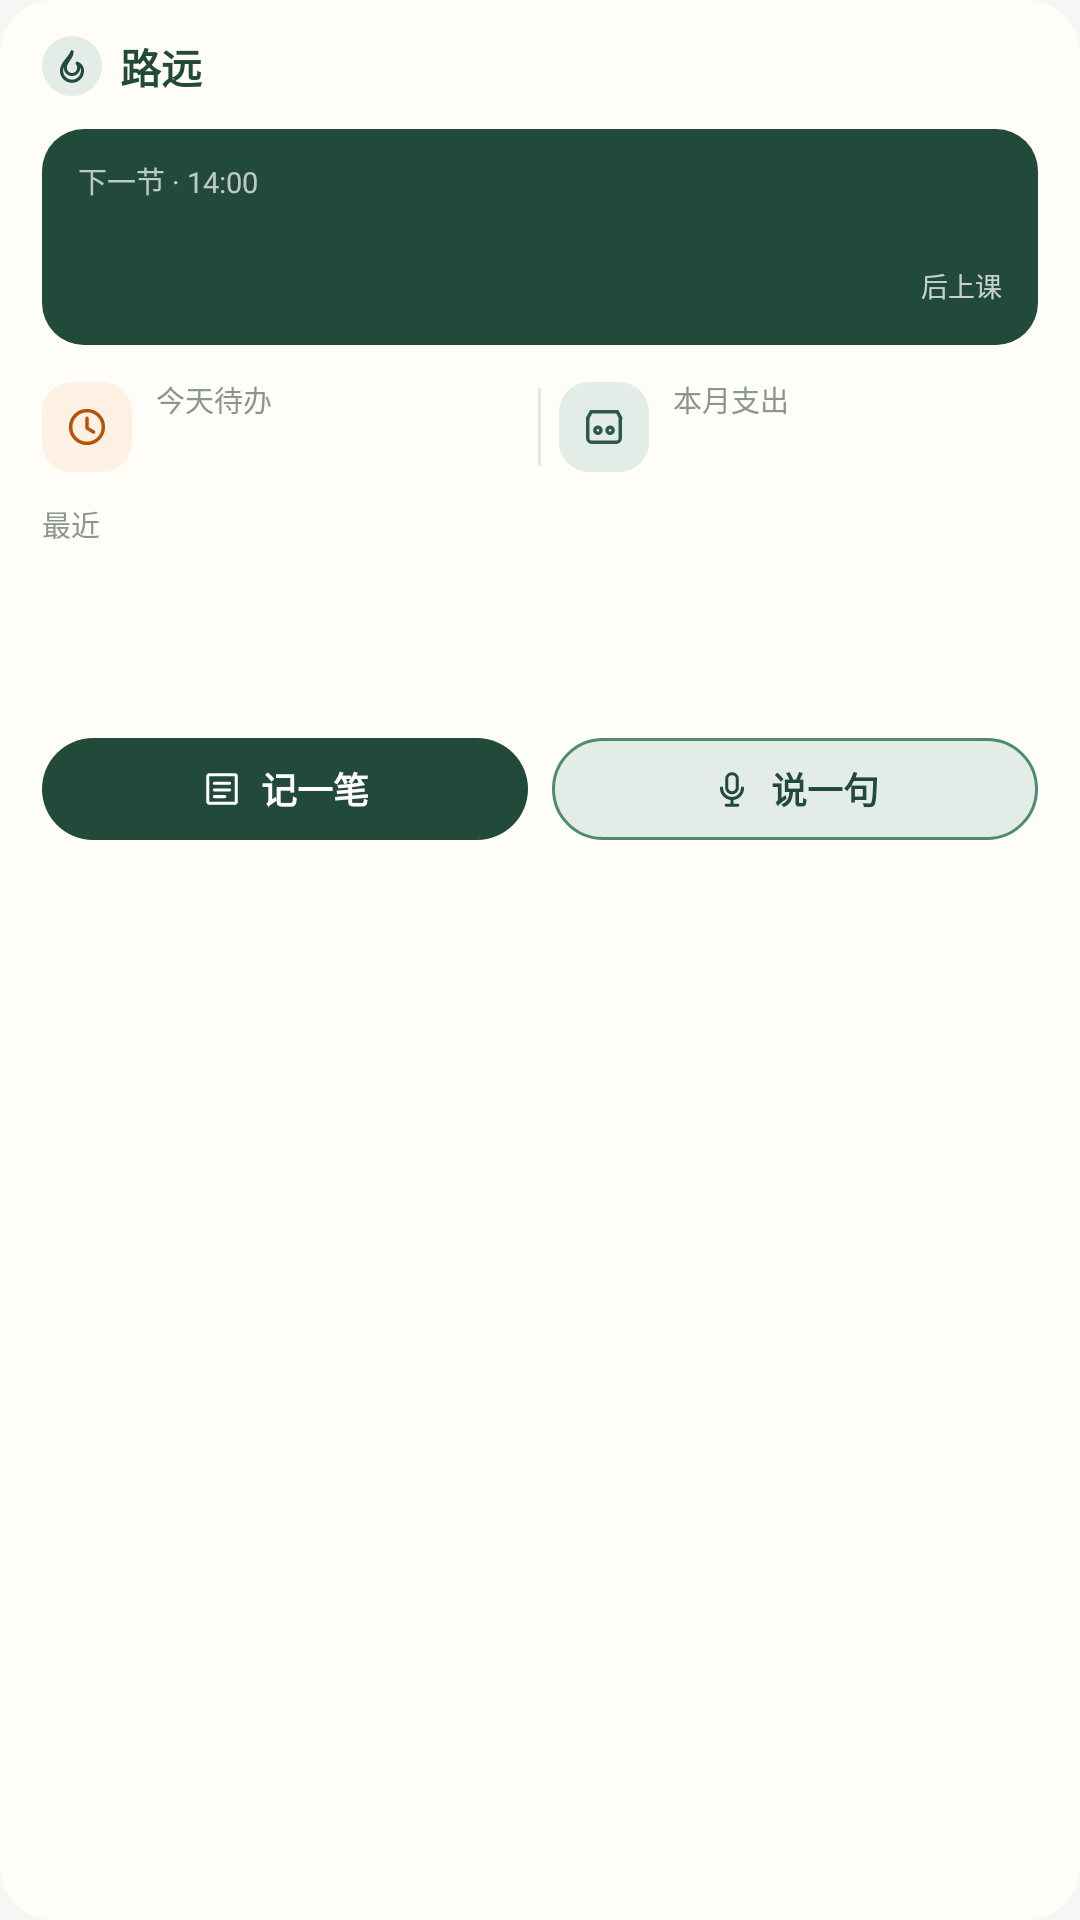

Icon click points for this 1080x1920 phone screenshot, format (x,y):
clock: (87,427)
mic: (732,789)
